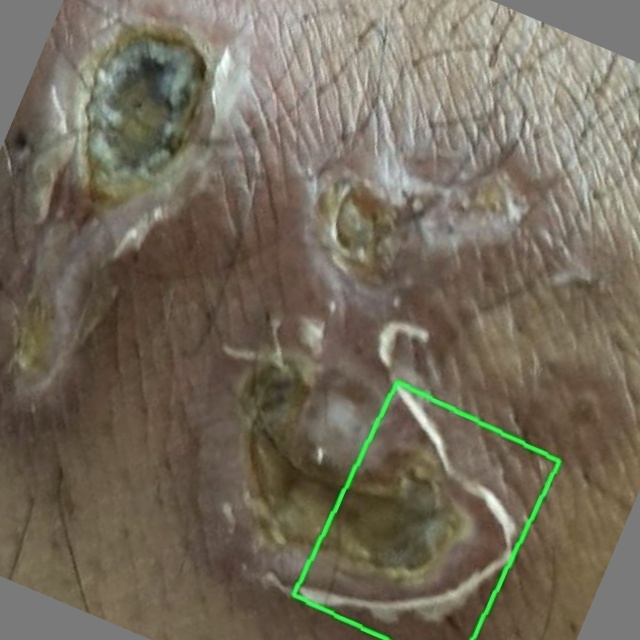Contact Dermatitis: (294, 382, 559, 639)
